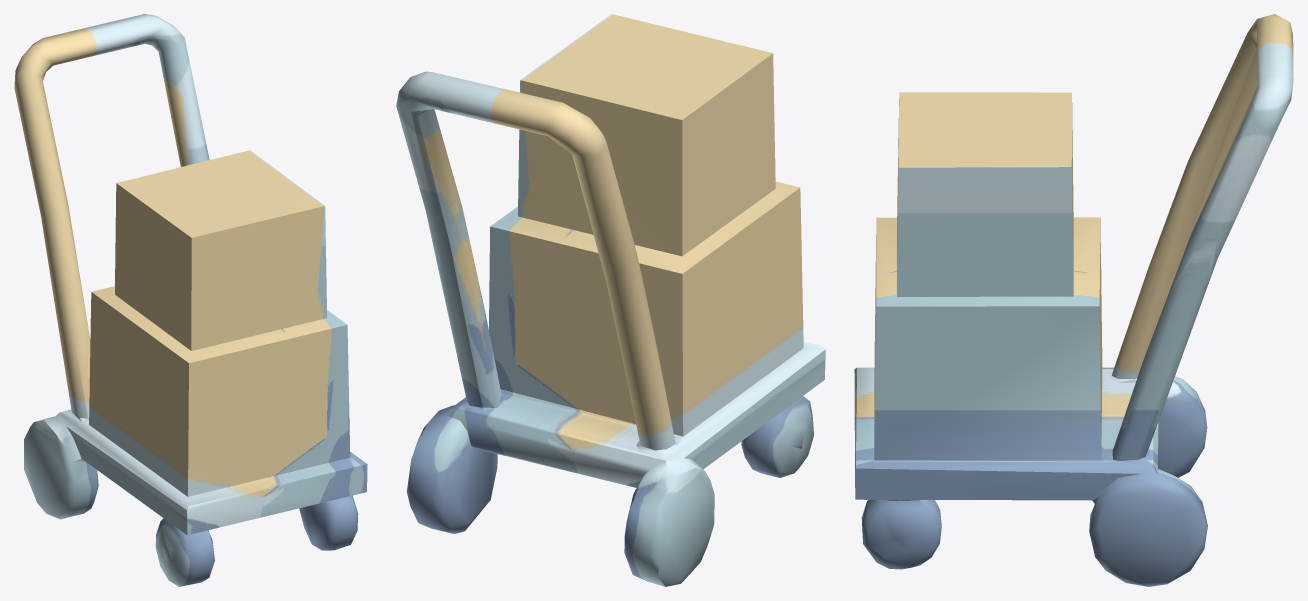
3 renders of one model, left to right at view 1: azimuth 30°, elevation 25°; view 2: azimuth 150°, elevation 25°; view 3: azimuth 270°, elevation 25°, orthographic. The views are drawn at different scales.
Visible parts, largest first — view 1: Decor_hand_truck_a; view 2: Decor_hand_truck_a; view 3: Decor_hand_truck_a.
Part boxes in pixels (x1,y1,x2,y2): Decor_hand_truck_a: [14, 14, 367, 586]; Decor_hand_truck_a: [396, 14, 825, 586]; Decor_hand_truck_a: [854, 14, 1293, 586].
Bounding box in the file's own units: 0.6808 × 1.3 × 1.06.
Materials: 1 (1 with a texture image).
